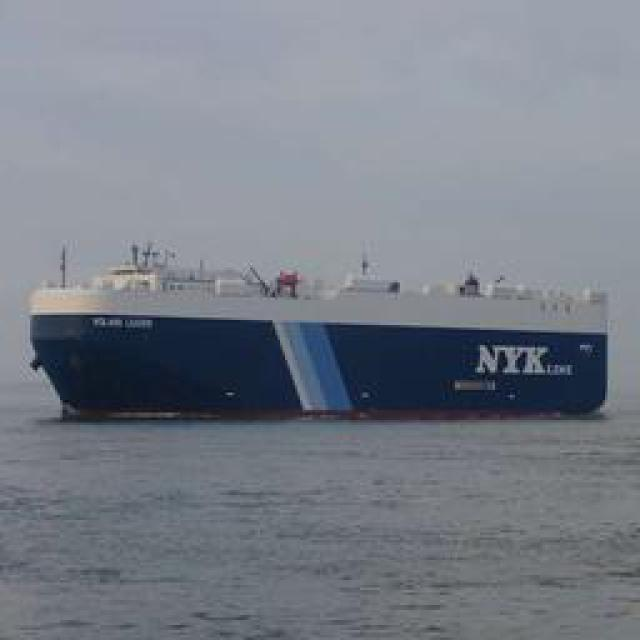Ship: (18, 244, 626, 424)
